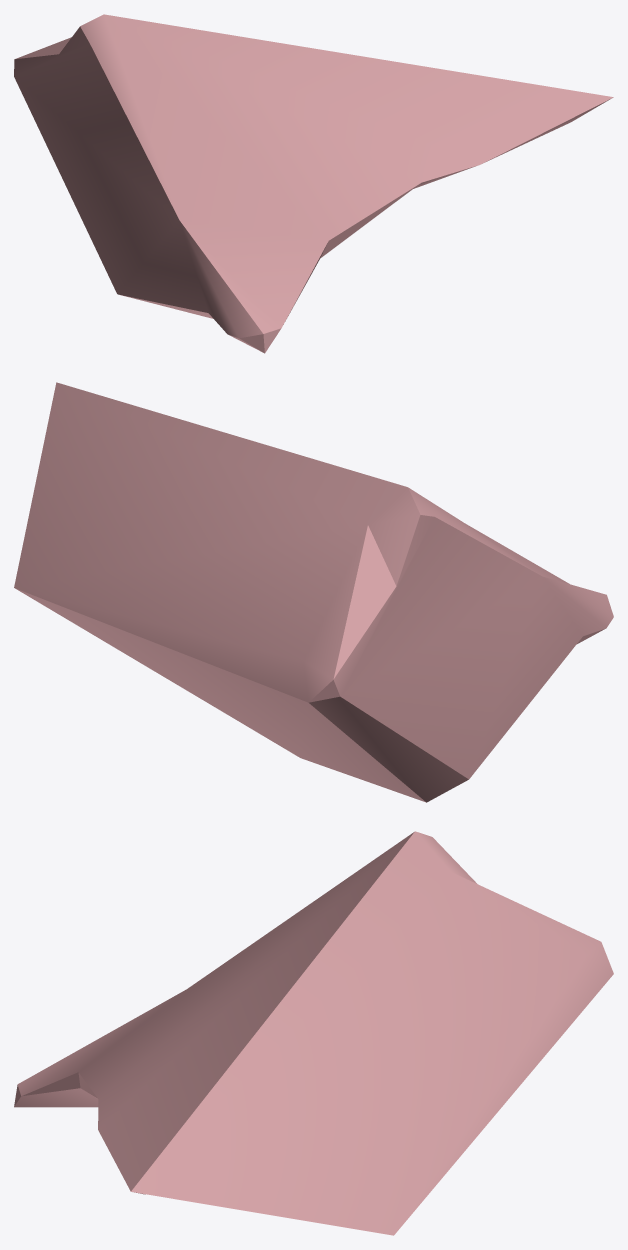
File: fma83740_fj1763.glb
The picture shows the model from 3 angles, top to bottom: view 1: azimuth 30°, elevation 25°; view 2: azimuth 150°, elevation 25°; view 3: azimuth 270°, elevation 25°; orthographic projection. The views are drawn at different scales.
Visible parts, largest first — view 1: FMA83740_FJ1763; view 2: FMA83740_FJ1763; view 3: FMA83740_FJ1763.
Boxes of the visible parts, left/top/right/bottom form: FMA83740_FJ1763: left=14, top=14, right=613, bottom=353; FMA83740_FJ1763: left=14, top=382, right=613, bottom=802; FMA83740_FJ1763: left=14, top=831, right=613, bottom=1235.
Bounding box in the file's own units: 0.00235 × 0.00143 × 0.00236.
